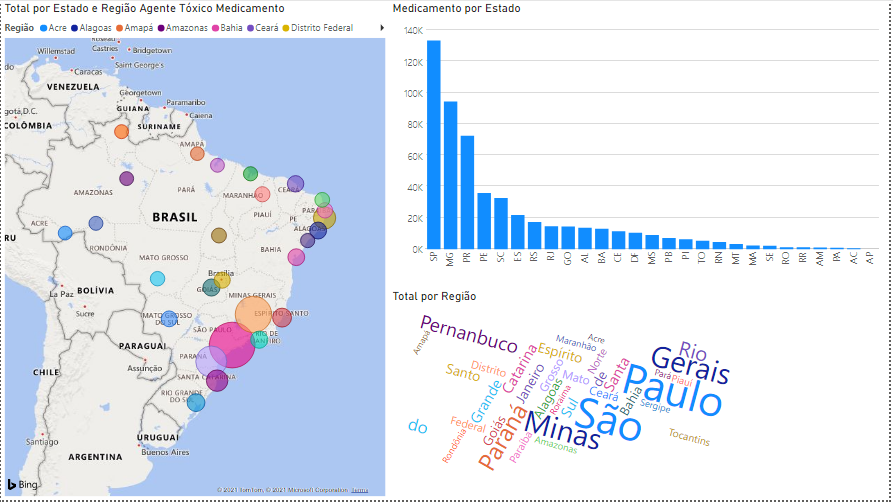

The dashboard page shown, as its layout file describes it:
{"tool":"powerbi","page":{"name":"Mapa_Brasil_Total_Agentes_Tóxicos","canvas":[1280,720],"ordinal":2},"visuals":[{"type":"map","title":"Total por Estado e Região Agente Tóxico Medicamento","fields":{"Category":["2007_a_2020_mensal_agentes_tóxi.Estado"],"Series":["2007_a_2020_mensal_agentes_tóxi.Região"],"Size":["Sum(2007_a_2020_mensal_agentes_tóxi.Medicamento)"]},"box":[0,0,560,720],"z":0},{"type":"PBI_CV_73744D90_4DC9_4F18_8BA5_EE8FA5C98035","fields":{"Category":["2007_a_2020_mensal_agentes_tóxi.Estado"],"Values":["Sum(2007_a_2020_mensal_agentes_tóxi.Medicamento)"]},"box":[560,0,720,416],"z":1000},{"type":"WordCloud1447959067750","fields":{"Values":["Sum(2007_a_2020_mensal_agentes_tóxi.Total)"],"Category":["2007_a_2020_mensal_agentes_tóxi.Região"]},"box":[560,416,720,304],"z":1001}]}

Visuals, with their boxes in screenshot pixels (x1, y1, x2, y2), scaled from the page's 1280x720 canvas onto the 893x504 screenshot:
"Total por Estado e Região Agente Tóxico Medicamento" map: box(0, 0, 391, 503)
PBI_CV_73744D90_4DC9_4F18_8BA5_EE8FA5C98035 - 2007_a_2020_mensal_agentes_tóxi.Estado x Sum(2007_a_2020_mensal_agentes_tóxi.Medicamento): box(391, 0, 892, 291)
WordCloud1447959067750 - Sum(2007_a_2020_mensal_agentes_tóxi.Total) x 2007_a_2020_mensal_agentes_tóxi.Região: box(391, 291, 892, 503)
